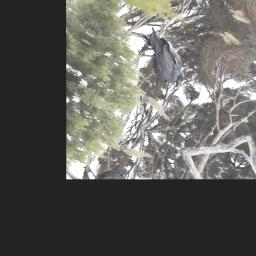Crow: (127, 23, 197, 91)
